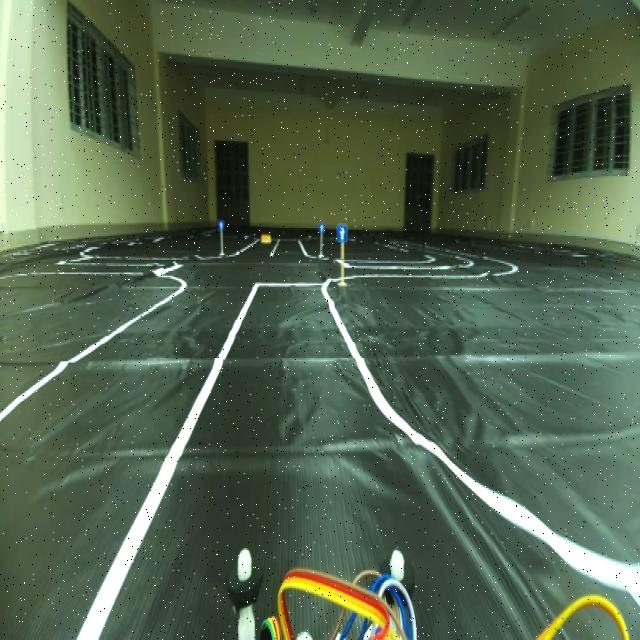onewayroad: (336, 216, 352, 245), (214, 219, 227, 232), (316, 217, 326, 231)
roadblock: (258, 228, 274, 247)
